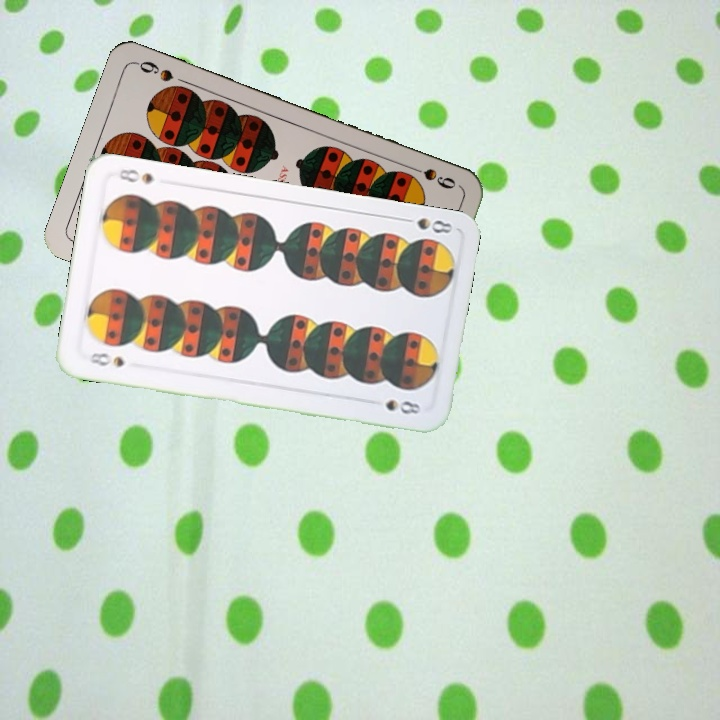S8: (396, 213, 455, 236), (83, 348, 127, 370)
S9: (403, 161, 459, 192)
